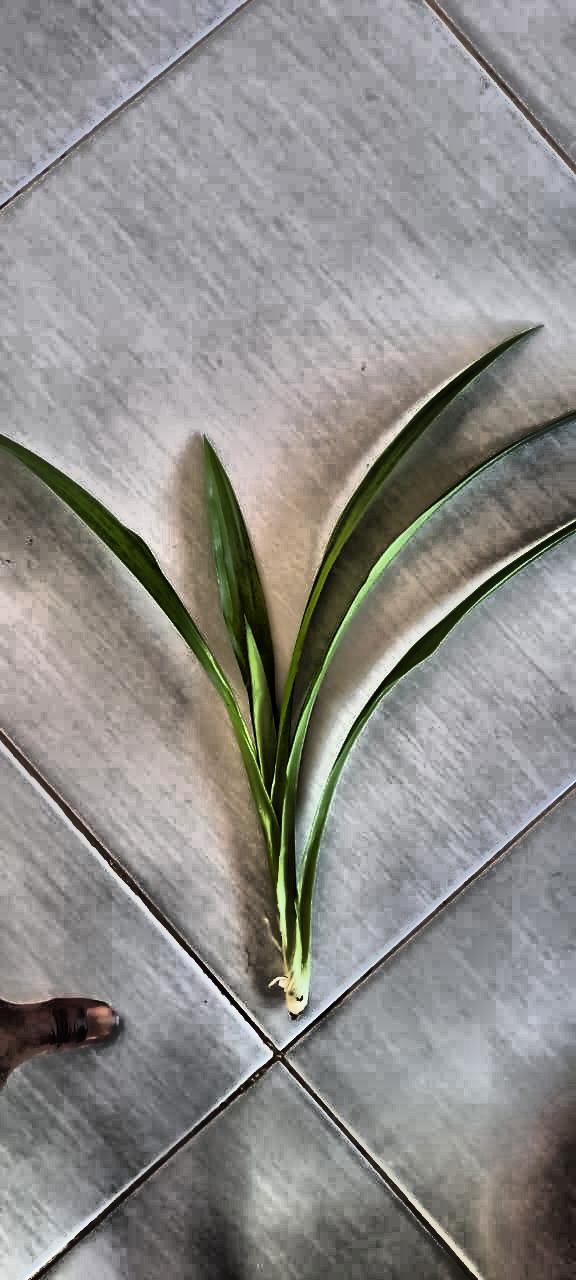daun pandan: (1, 330, 575, 1015)
